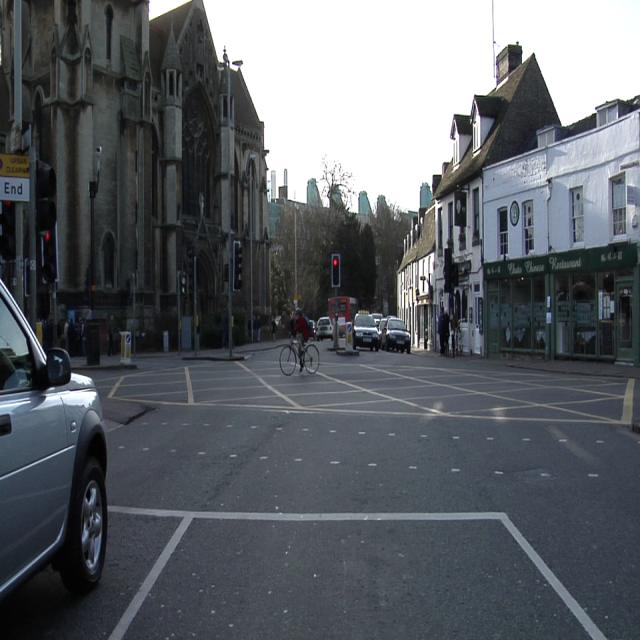Bicyclist: (279, 308, 320, 375)
Building: (0, 0, 270, 363), (481, 97, 639, 364), (434, 45, 559, 354), (398, 200, 435, 349)
Car: (0, 282, 108, 598), (354, 315, 380, 351), (383, 320, 410, 352), (316, 317, 332, 339)
Road: (0, 345, 640, 638)
